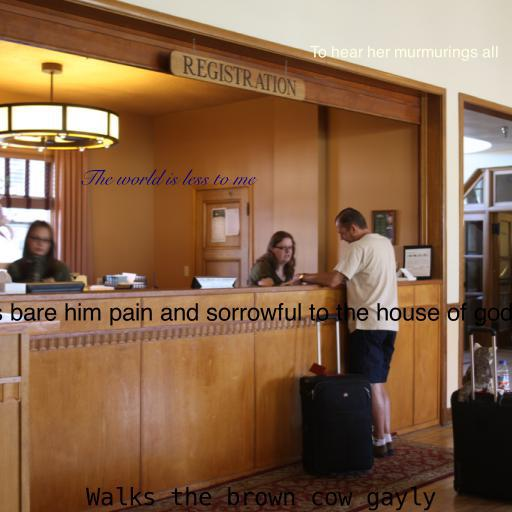Helvetica: (0, 303, 512, 326)
Impact: (309, 45, 499, 61)
Menlo: (86, 487, 436, 511)
Snell Roundhand: (79, 169, 255, 185)
